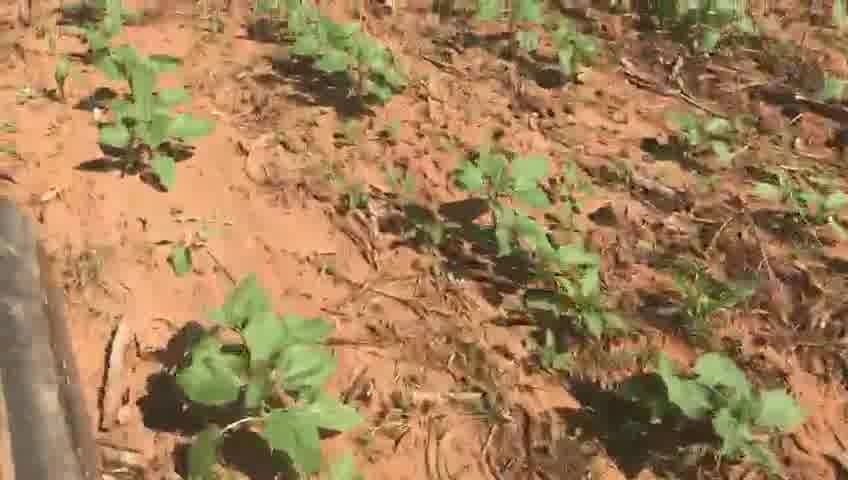sunflower: (169, 277, 371, 479), (620, 349, 803, 471), (95, 67, 219, 192), (428, 149, 559, 263), (276, 5, 409, 104), (527, 248, 631, 365), (70, 11, 185, 93), (514, 14, 606, 92), (658, 107, 743, 167), (761, 172, 839, 236), (166, 224, 222, 274)
